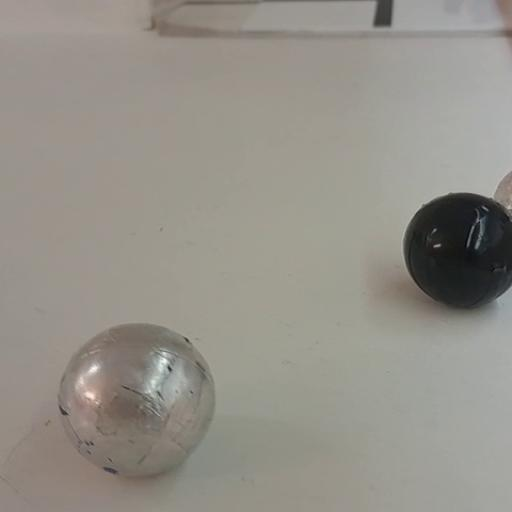alive: (56, 321, 218, 481)
dead: (400, 192, 512, 308)
